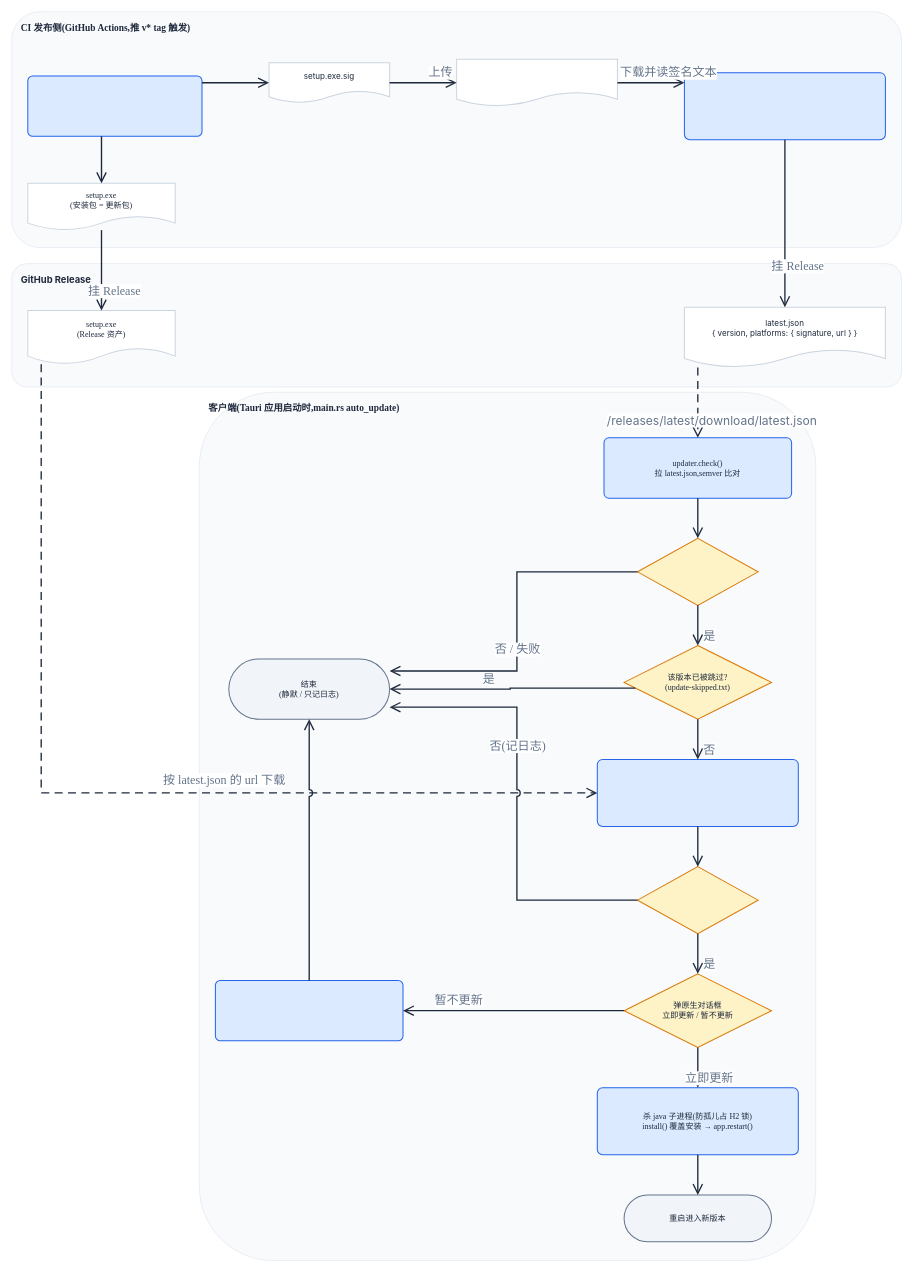
Image size: 913x1272. Some labels were removed from this diagram. Here are the shapes that lost their labels. From the top down, the centre of each, then its label:
point 537,82: CI artifact (保留 1 天,不上 Release)
point 114,106: windows-tauri 任务 tauri build(minisign 私钥签名)
point 785,106: updater-manifest 收尾任务 合并各平台签名,拼 latest.json
point 697,572: 有新版?
point 698,793: 后台静默预下载 exe(约 170MB) 同步用内嵌公钥验 signature
point 697,900: 验签通过?
point 309,1010: 版本号写入 update-skipped.txt 同版本不再提示
